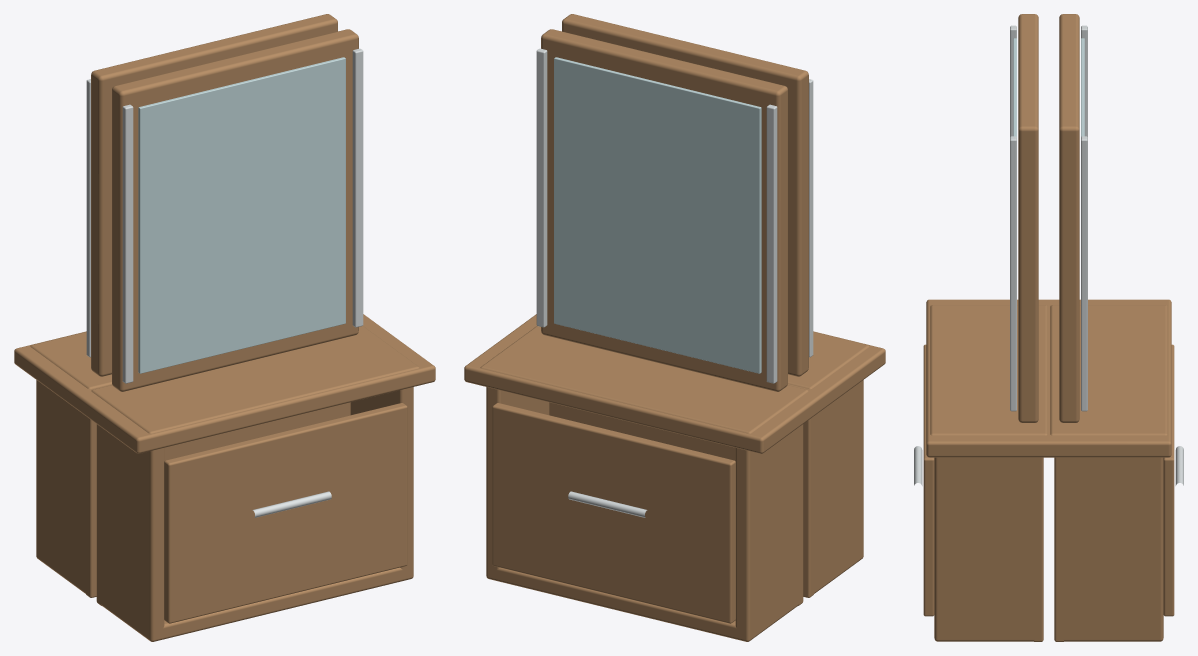
Rendered from treatment.glb.
3 renders of one model, left to right at view 1: azimuth 30°, elevation 25°; view 2: azimuth 150°, elevation 25°; view 3: azimuth 270°, elevation 25°, orthographic.
Visible parts, largest first — view 1: double-sided-styling-island; view 2: double-sided-styling-island; view 3: double-sided-styling-island.
Boxes of the visible parts, box(x1,y1,x2,y2) form: double-sided-styling-island: box(14, 14, 435, 641); double-sided-styling-island: box(464, 14, 885, 641); double-sided-styling-island: box(914, 14, 1183, 641).
Size of the model in its own units: 1.25 by 2.06 by 0.9901.
